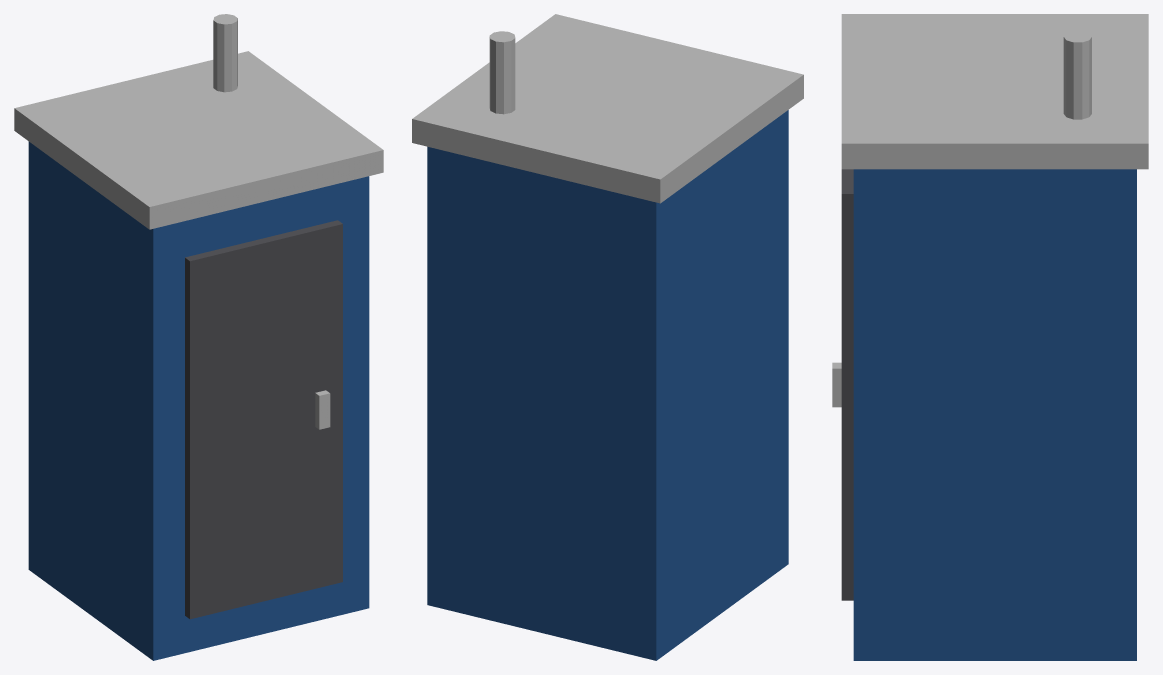
Rendered from porta-potty.glb.
The picture shows the model from 3 angles, left to right: view 1: azimuth 30°, elevation 25°; view 2: azimuth 150°, elevation 25°; view 3: azimuth 270°, elevation 25°; orthographic projection. The views are drawn at different scales.
Parts seen in each view (by area): view 1: Cube, Cube.002, Cube.001, Cylinder, Cube.003; view 2: Cube, Cube.001, Cylinder; view 3: Cube, Cube.001, Cube.002, Cylinder.
Boxes of the visible parts, x1=… form: Cube: x1=28, y1=141, x2=369, y2=660; Cube.002: x1=185, y1=220, x2=342, y2=619; Cube.001: x1=14, y1=51, x2=383, y2=229; Cylinder: x1=213, y1=14, x2=237, y2=92; Cube.003: x1=315, y1=390, x2=330, y2=429; Cube: x1=427, y1=110, x2=788, y2=660; Cube.001: x1=412, y1=14, x2=803, y2=203; Cylinder: x1=489, y1=31, x2=515, y2=114; Cube: x1=853, y1=169, x2=1136, y2=660; Cube.001: x1=841, y1=14, x2=1148, y2=169; Cube.002: x1=841, y1=169, x2=853, y2=600; Cylinder: x1=1063, y1=31, x2=1091, y2=119.
Size of what is drawn, in the model's own units: 1.3 by 2.8 by 1.34.
